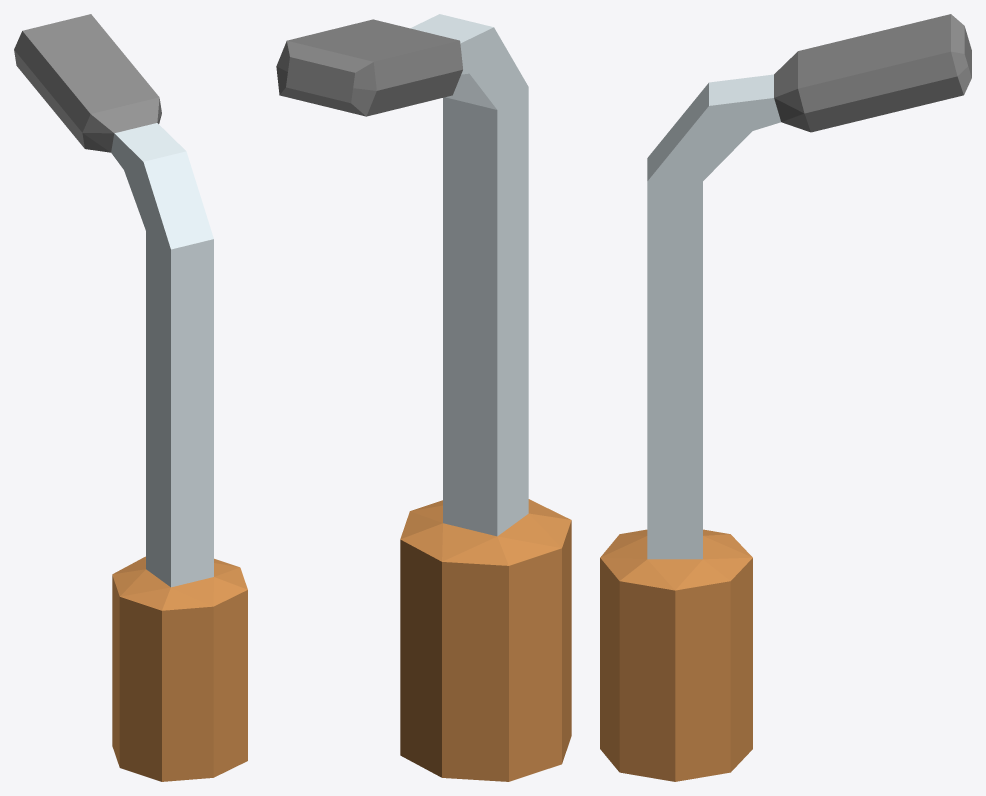
File: lamp.gltf
3 views of the same model, side by side, from view 1: azimuth 30°, elevation 25°; view 2: azimuth 150°, elevation 25°; view 3: azimuth 270°, elevation 25° (orthographic). The views are drawn at different scales.
Visible parts, largest first — view 1: cuboid; view 2: cuboid; view 3: cuboid.
Boxes of the visible parts, x1=… form: cuboid: x1=14, y1=14, x2=247, y2=781; cuboid: x1=276, y1=14, x2=571, y2=781; cuboid: x1=600, y1=14, x2=971, y2=781.
Size of the model in its own units: 0.35 by 1.78 by 0.8359.
Materials: 1 (1 with a texture image).
